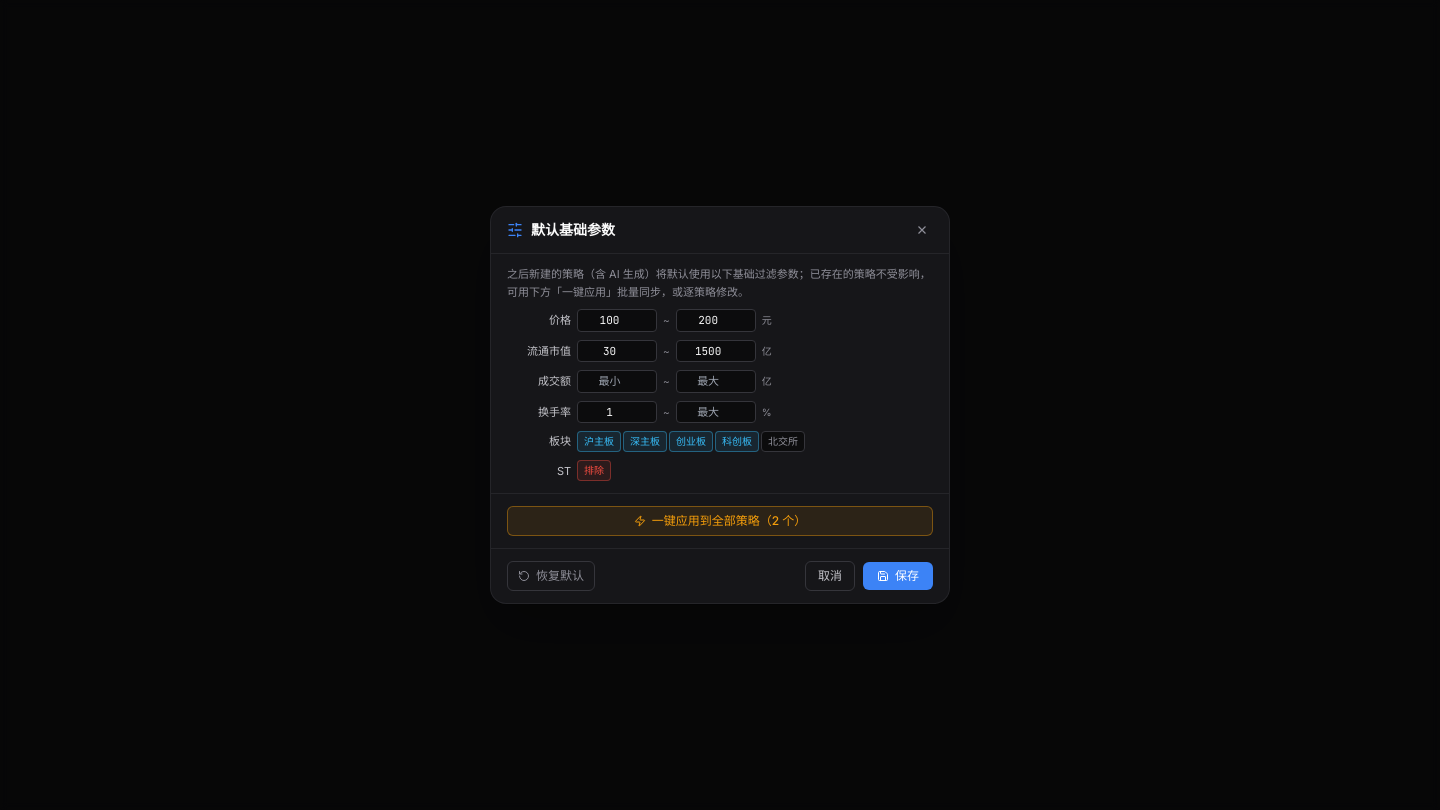
Test: reset restores builtin defaults
Click the button "恢复默认". click: coordinates (551, 576)
box: 507,561 -> 595,591
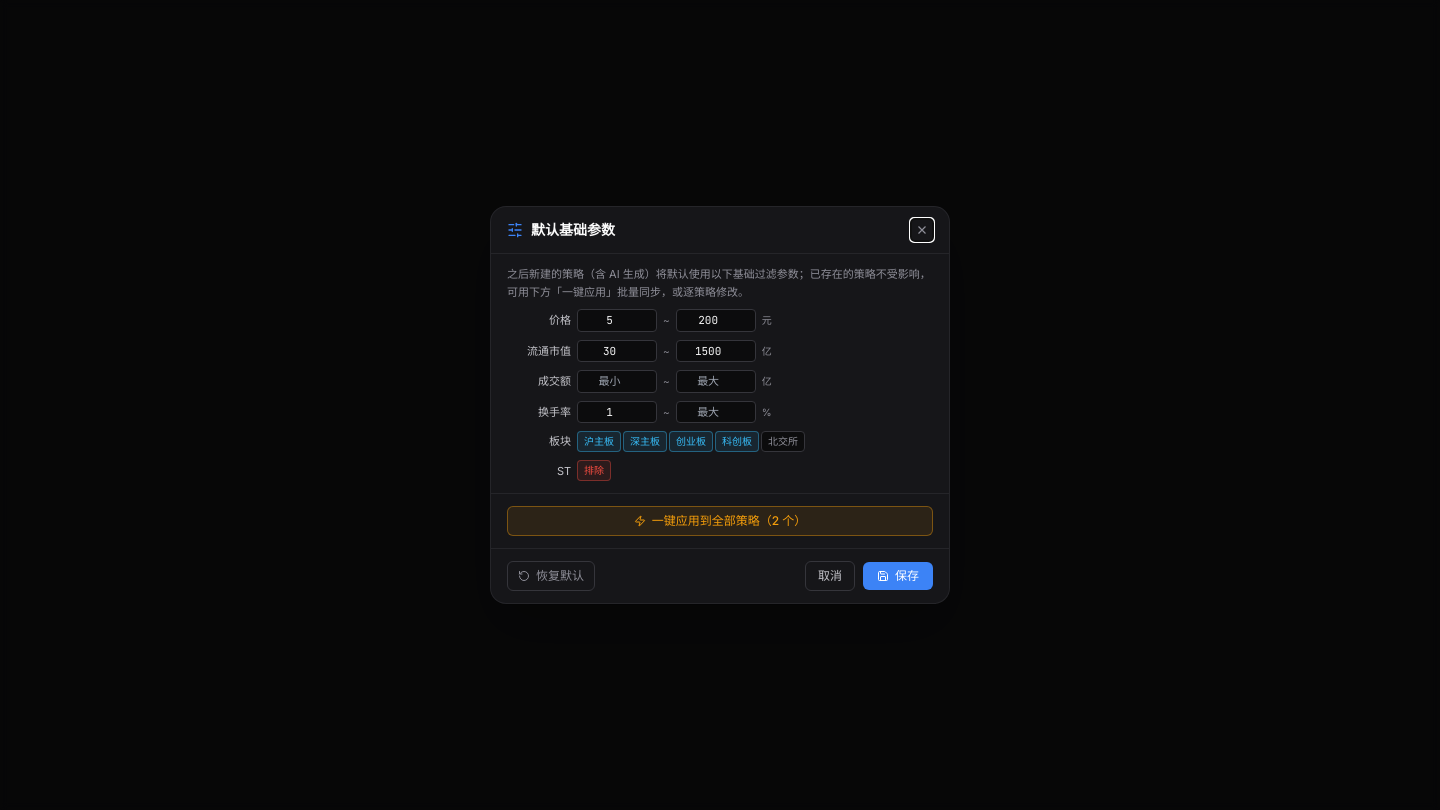
Result: the 1st number field holds "5" at 577,309 -> 657,332
